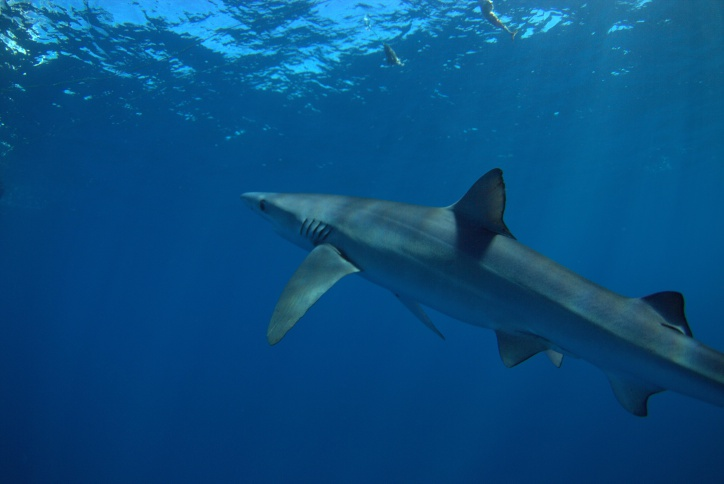Azul: (219, 145, 724, 452)
